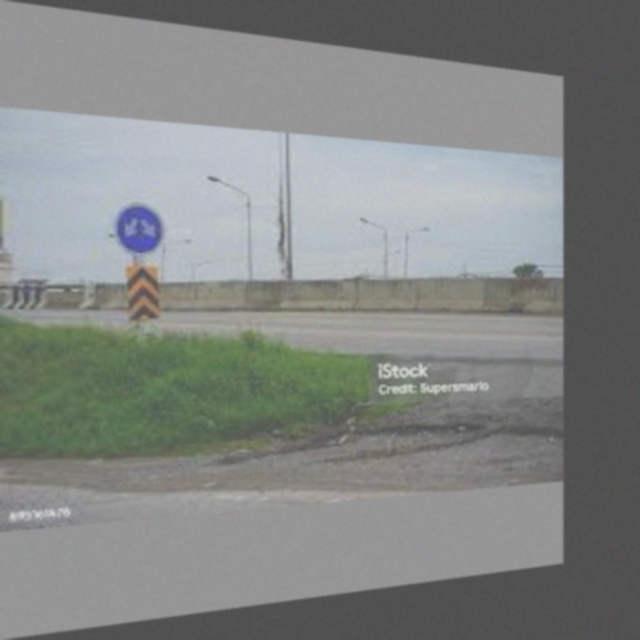Pass_Either_Side: (117, 201, 166, 254)
